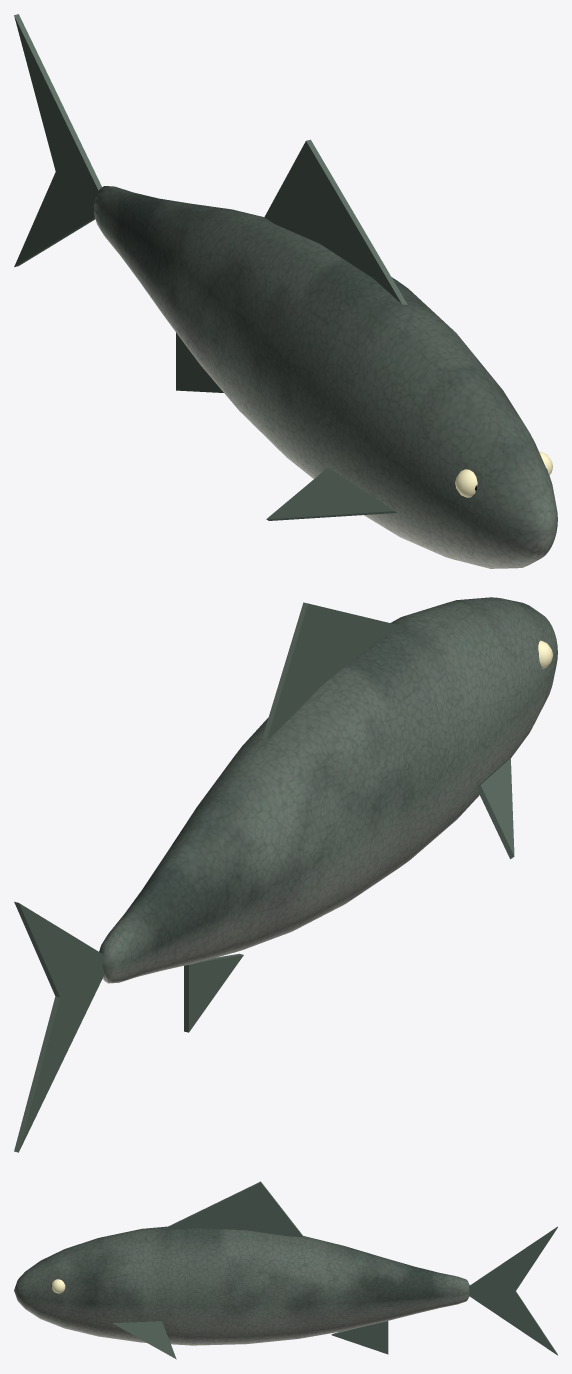
Rendered from fish.glb.
3 views of the same model, one above another, from view 1: azimuth 30°, elevation 25°; view 2: azimuth 150°, elevation 25°; view 3: azimuth 270°, elevation 25° (orthographic). The views are drawn at different scales.
Visible parts, largest first — view 1: fish; view 2: fish; view 3: fish.
Boxes of the visible parts, left/top/right/bottom form: fish: left=14, top=14, right=557, bottom=568; fish: left=14, top=597, right=557, bottom=1152; fish: left=14, top=1181, right=557, bottom=1359.
Size of the model in its own units: 0.203 by 0.27 by 0.769.
4 materials, 1 textured.
